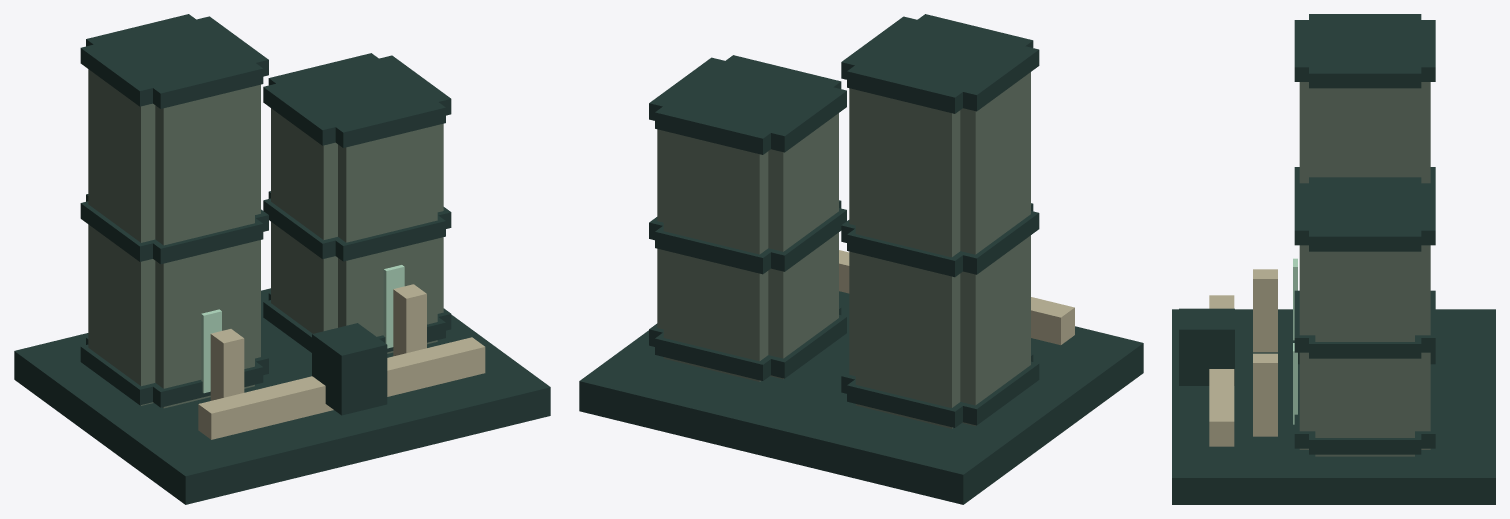
Rendered from reservoir-intact.glb.
The picture shows the model from 3 angles, left to right: view 1: azimuth 30°, elevation 25°; view 2: azimuth 150°, elevation 25°; view 3: azimuth 270°, elevation 25°; orthographic projection. The views are drawn at different scales.
Parts seen in each view (by area): view 1: reservoir-intact; view 2: reservoir-intact; view 3: reservoir-intact.
Part boxes in pixels (<box>): reservoir-intact: <box>14,14,550,504</box>; reservoir-intact: <box>579,14,1143,504</box>; reservoir-intact: <box>1172,14,1495,504</box>.
Bounding box in the file's own units: 3.2 × 2.96 × 2.6.
